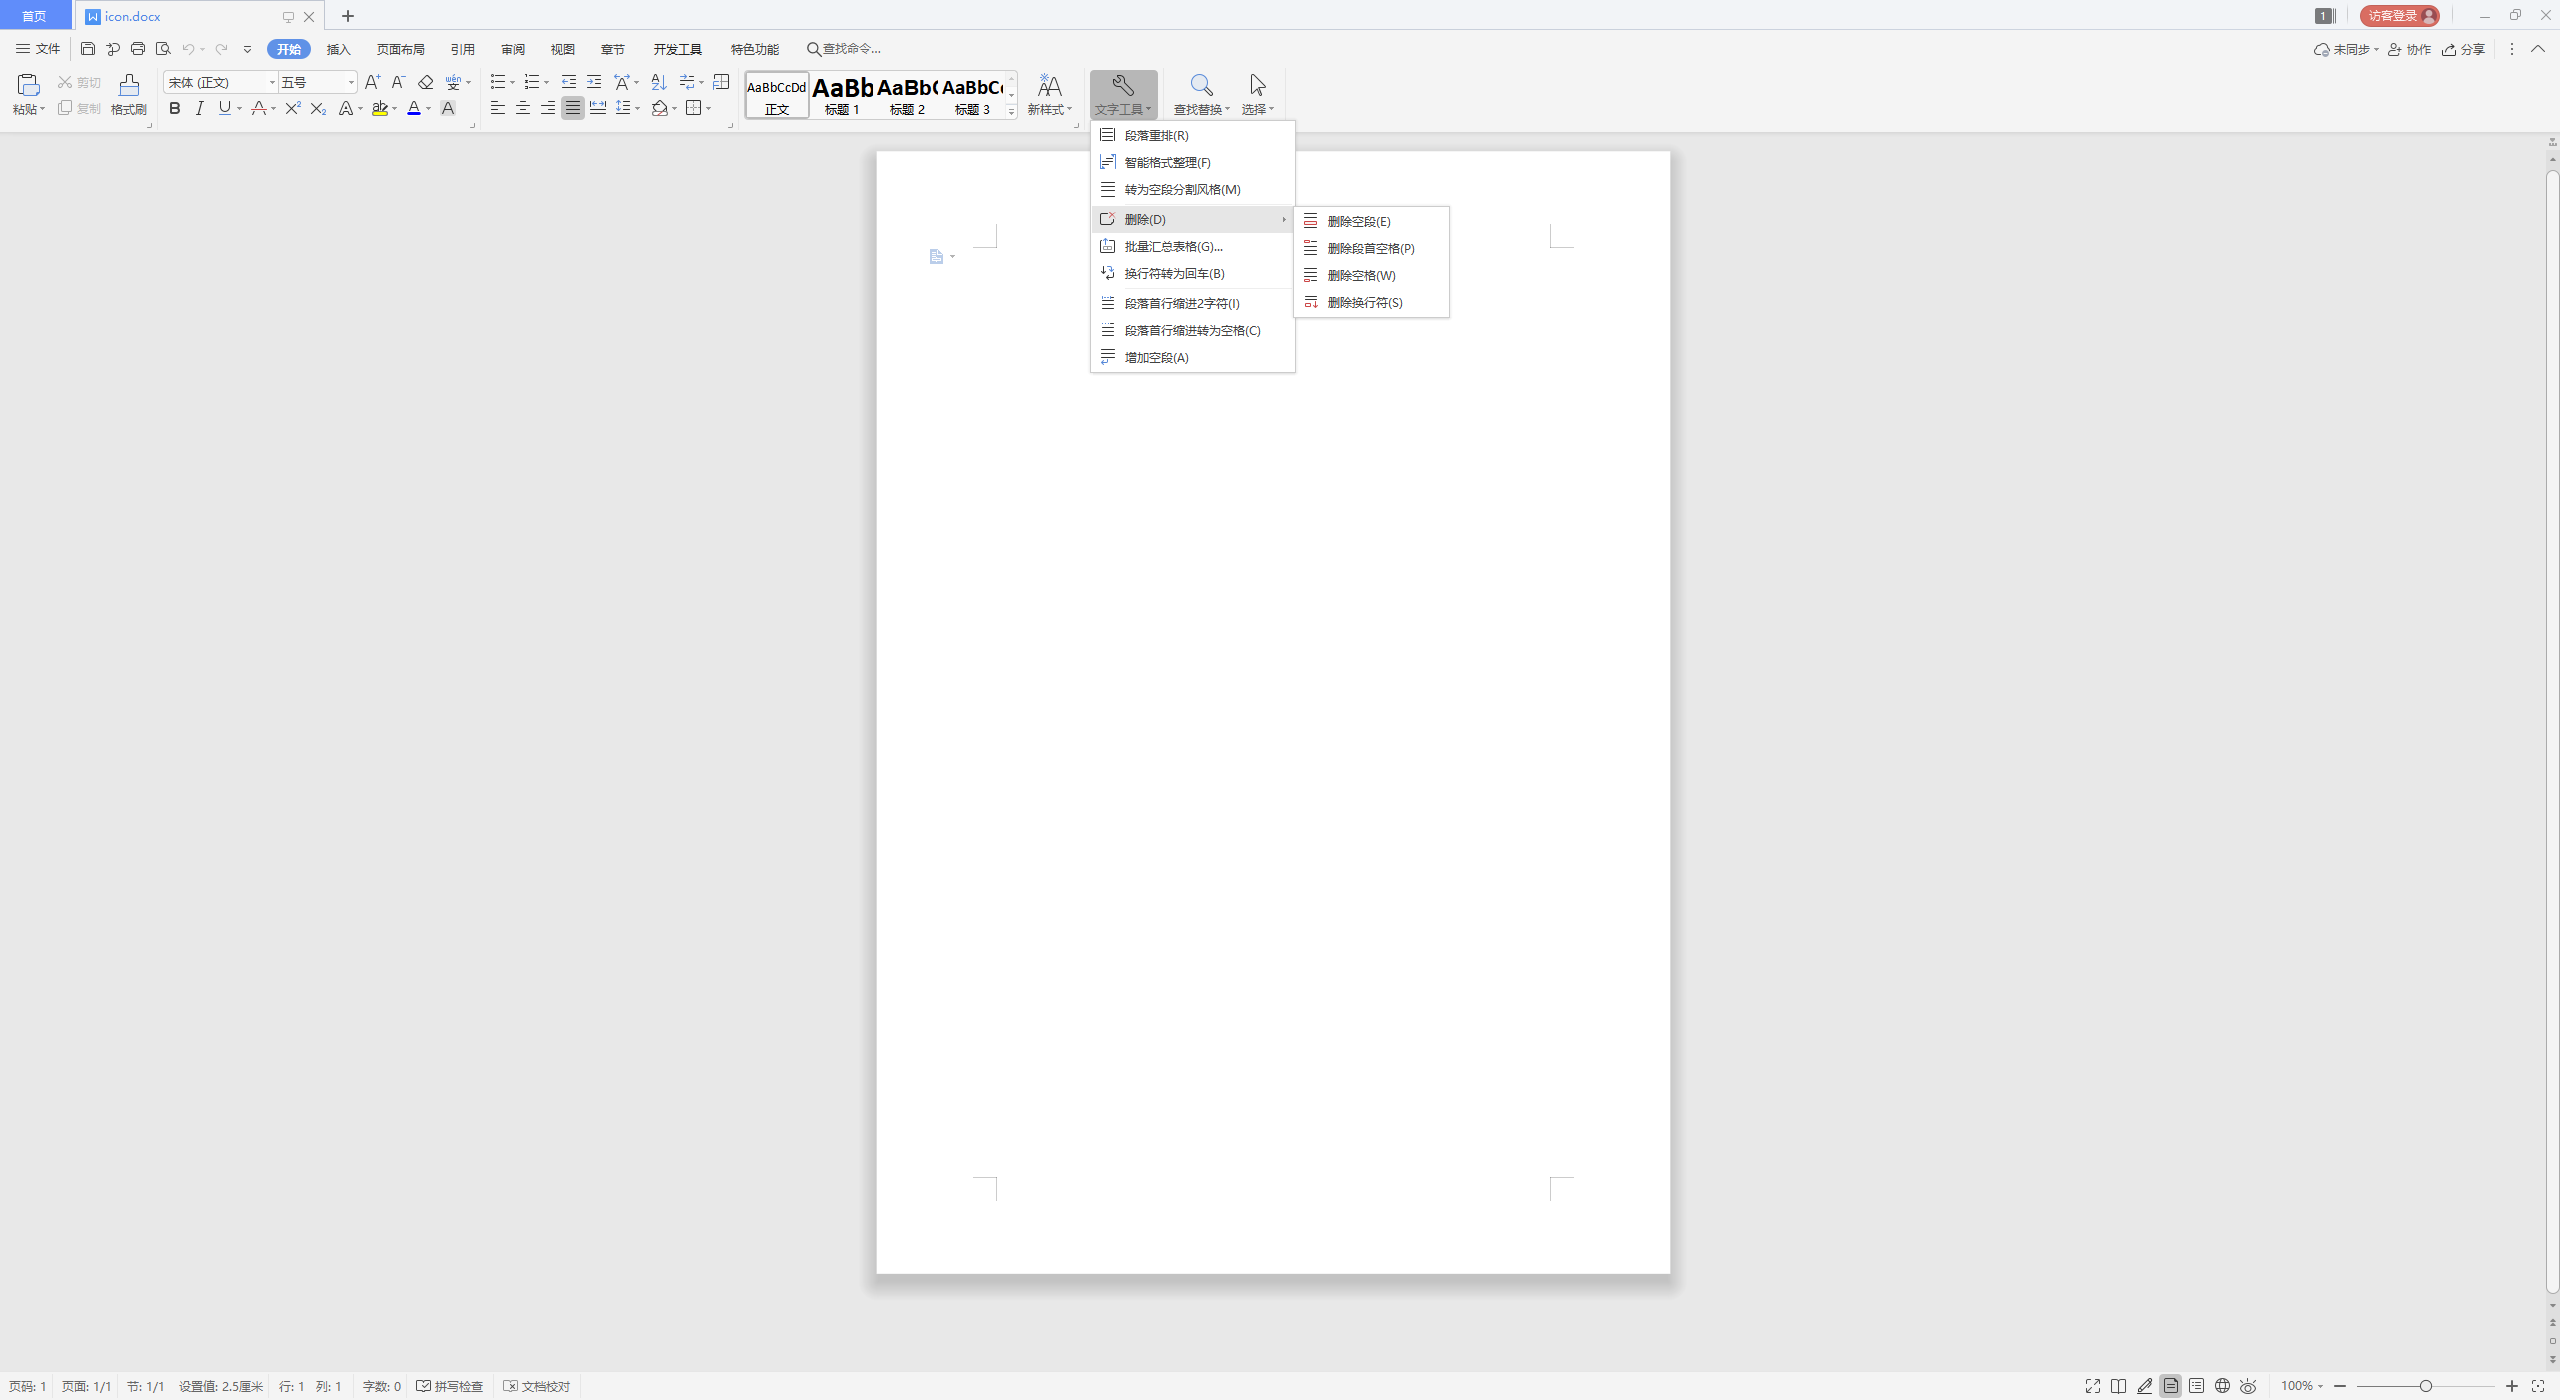character: (1124, 321, 1262, 341), (746, 76, 809, 116), (810, 76, 872, 116), (876, 76, 938, 116), (941, 76, 1003, 116), (1122, 295, 1241, 314), (1121, 183, 1245, 198), (1119, 240, 1227, 255), (1326, 241, 1420, 259), (1122, 267, 1227, 283), (176, 1378, 264, 1395), (1122, 155, 1215, 171), (272, 1378, 345, 1397), (1324, 267, 1403, 284), (1324, 293, 1403, 310), (1326, 212, 1395, 231), (1122, 348, 1189, 367), (167, 76, 234, 91), (1121, 210, 1174, 229), (1122, 129, 1189, 143), (2367, 5, 2415, 24), (103, 9, 162, 24), (822, 41, 881, 57), (521, 1378, 571, 1395), (433, 1378, 486, 1393), (359, 1378, 402, 1397), (60, 1379, 112, 1395), (376, 41, 426, 57), (652, 41, 702, 57), (729, 41, 779, 57), (122, 1379, 169, 1395), (5, 1379, 48, 1395), (1093, 103, 1141, 117), (1172, 102, 1221, 116), (109, 102, 148, 117), (2332, 41, 2370, 57), (2458, 40, 2486, 59), (2407, 40, 2432, 59), (1027, 103, 1062, 117), (2281, 1378, 2312, 1391), (34, 41, 62, 55), (21, 9, 48, 22), (448, 41, 476, 55), (548, 41, 576, 55), (10, 102, 36, 116), (76, 76, 102, 90), (76, 102, 102, 116), (276, 41, 302, 55), (324, 41, 350, 55), (500, 41, 526, 55), (600, 43, 626, 57), (281, 76, 307, 90), (1239, 102, 1265, 116)
icon: (1548, 1178, 1577, 1203), (1036, 71, 1064, 97), (1110, 71, 1136, 98), (972, 222, 1000, 248), (1545, 222, 1572, 248), (972, 1176, 998, 1202), (560, 95, 586, 119), (1189, 72, 1214, 97), (2158, 1372, 2182, 1397), (117, 71, 140, 97), (17, 72, 40, 97), (1246, 72, 1269, 97), (2184, 1374, 2208, 1397), (2107, 1374, 2129, 1397), (2236, 1374, 2258, 1397), (386, 71, 409, 91), (486, 69, 507, 91), (2134, 1376, 2157, 1397), (2212, 1374, 2232, 1397), (2082, 1374, 2105, 1395), (2313, 5, 2338, 24), (369, 97, 390, 117), (362, 71, 383, 91), (436, 97, 457, 117), (583, 71, 603, 91), (614, 97, 634, 117), (559, 71, 579, 91), (521, 71, 541, 91), (2419, 5, 2439, 26), (648, 97, 667, 117), (588, 98, 609, 117), (514, 97, 533, 117), (538, 97, 559, 116), (710, 72, 731, 91), (488, 97, 507, 117), (677, 71, 696, 91), (648, 71, 667, 91), (403, 98, 422, 117), (283, 98, 302, 117), (683, 97, 702, 116), (415, 72, 434, 91), (1300, 210, 1319, 229), (414, 1376, 433, 1395), (191, 97, 209, 117), (486, 91, 507, 109), (165, 97, 183, 116), (248, 98, 267, 116), (340, 5, 357, 24), (445, 76, 462, 95), (1098, 124, 1115, 143), (1098, 179, 1115, 198), (1098, 347, 1115, 366), (1098, 209, 1115, 228), (2417, 1376, 2434, 1395), (55, 98, 72, 116), (215, 98, 233, 116), (336, 98, 353, 116), (103, 40, 121, 57), (84, 9, 102, 26), (612, 74, 629, 91), (1098, 152, 1115, 169), (1302, 266, 1319, 283), (1302, 238, 1319, 255), (2313, 40, 2331, 57), (2503, 40, 2520, 57), (502, 1378, 519, 1395), (14, 40, 33, 55), (2527, 1378, 2546, 1393), (79, 40, 97, 55), (153, 40, 171, 55), (129, 40, 147, 55), (309, 98, 324, 116), (279, 9, 297, 24), (807, 40, 822, 57), (927, 248, 945, 264), (1100, 236, 1115, 253), (1302, 293, 1319, 309), (1100, 293, 1115, 310), (1100, 264, 1115, 281), (2439, 41, 2457, 57), (2505, 1378, 2520, 1395), (57, 74, 72, 90), (300, 9, 315, 24), (1100, 321, 1115, 336), (2388, 41, 2403, 57), (179, 41, 197, 55), (2529, 41, 2546, 55), (2476, 9, 2493, 22), (2507, 7, 2522, 21), (2539, 7, 2553, 22), (345, 72, 357, 90), (214, 41, 228, 55), (2332, 1378, 2346, 1391), (390, 100, 402, 116), (267, 100, 279, 116), (696, 74, 709, 90), (467, 117, 479, 131), (633, 102, 645, 116), (2315, 1378, 2327, 1391), (267, 74, 278, 90), (669, 100, 679, 116), (633, 72, 641, 90), (422, 102, 434, 114), (2546, 136, 2558, 148), (2546, 152, 2558, 164), (234, 100, 245, 114), (197, 41, 207, 55), (541, 76, 552, 90), (2548, 1297, 2558, 1310), (2548, 1316, 2558, 1329), (2548, 1334, 2558, 1348), (2548, 1353, 2558, 1367), (1007, 86, 1015, 102), (241, 43, 252, 55), (355, 102, 365, 114), (145, 121, 155, 133), (703, 102, 714, 114), (1267, 102, 1277, 114), (2372, 41, 2382, 53), (1067, 103, 1077, 116), (1072, 121, 1083, 133), (1224, 102, 1234, 114), (948, 252, 958, 264), (464, 76, 472, 90), (509, 76, 517, 90), (1007, 71, 1015, 84), (38, 102, 47, 114), (1007, 105, 1015, 117), (1143, 102, 1152, 114), (726, 119, 734, 129), (1279, 214, 1288, 224)
